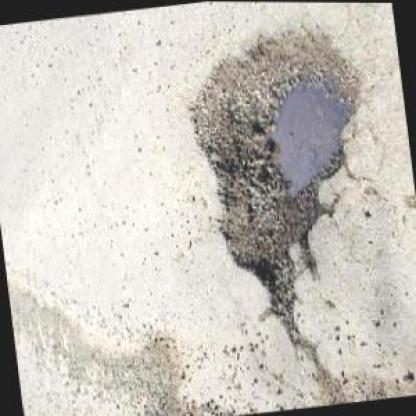pothole: (176, 20, 386, 314)
